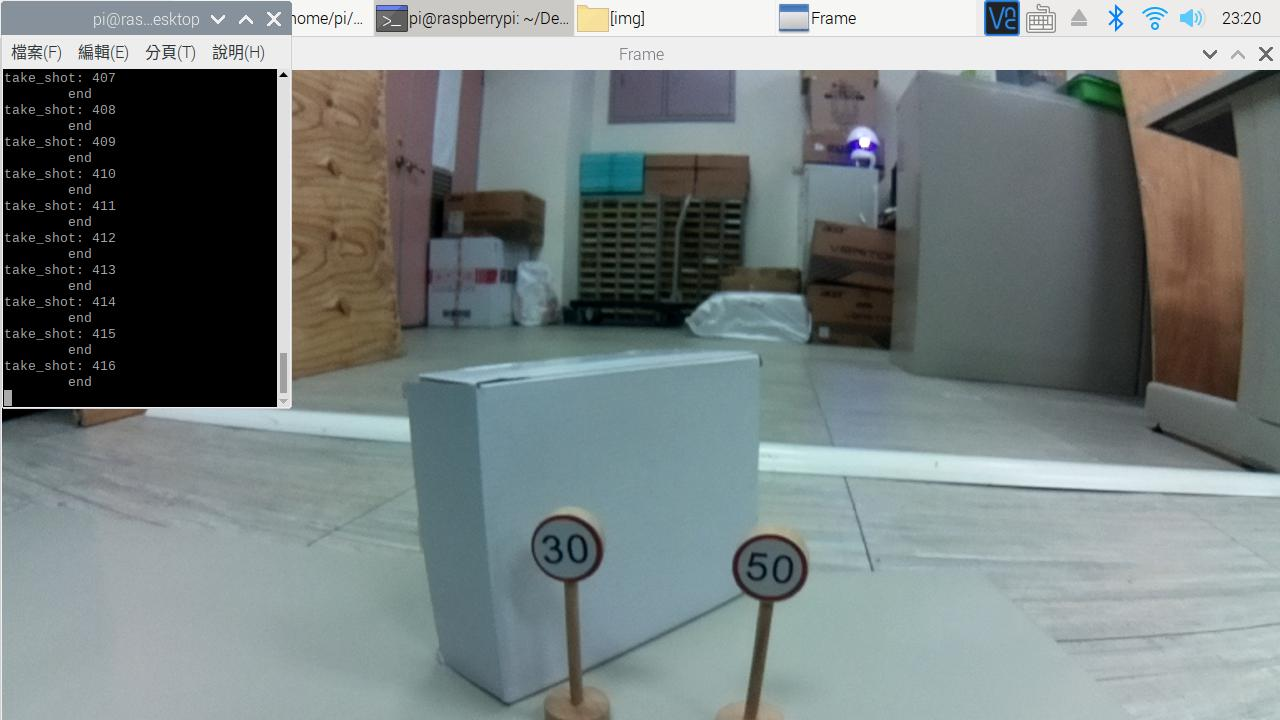Speed30: (520, 490, 613, 621)
Speed50: (721, 520, 824, 613)
